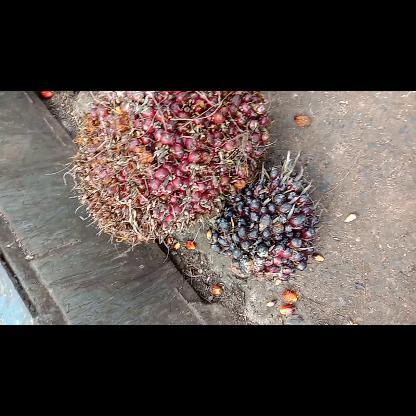TBS abnormal: (206, 157, 322, 282)
TBS masak: (64, 92, 272, 246)
